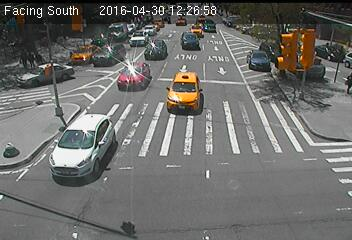neg: (176, 63, 194, 87), (2, 139, 17, 159), (57, 36, 71, 55), (84, 38, 98, 56), (76, 127, 89, 146), (321, 38, 334, 56), (262, 39, 275, 57), (30, 93, 43, 110), (292, 71, 303, 87), (227, 16, 234, 25)
pos: (24, 49, 39, 68), (18, 49, 29, 65), (32, 49, 43, 64), (344, 72, 351, 91)
